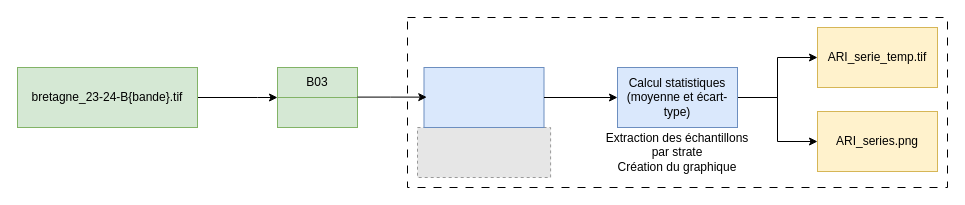
The diagram is 965 pixels wide and 205 high, and some of its shapes have lost their labels. Grey dashed boxes stand in for pictures. Here are the shapes that lost their labels. From the top down, the box of each, then its label:
(276, 96, 358, 128): B05
(423, 66, 544, 128): Calcul ARI
(406, 16, 948, 188): 2. Phénologie des strates, mise en évidence des landes
